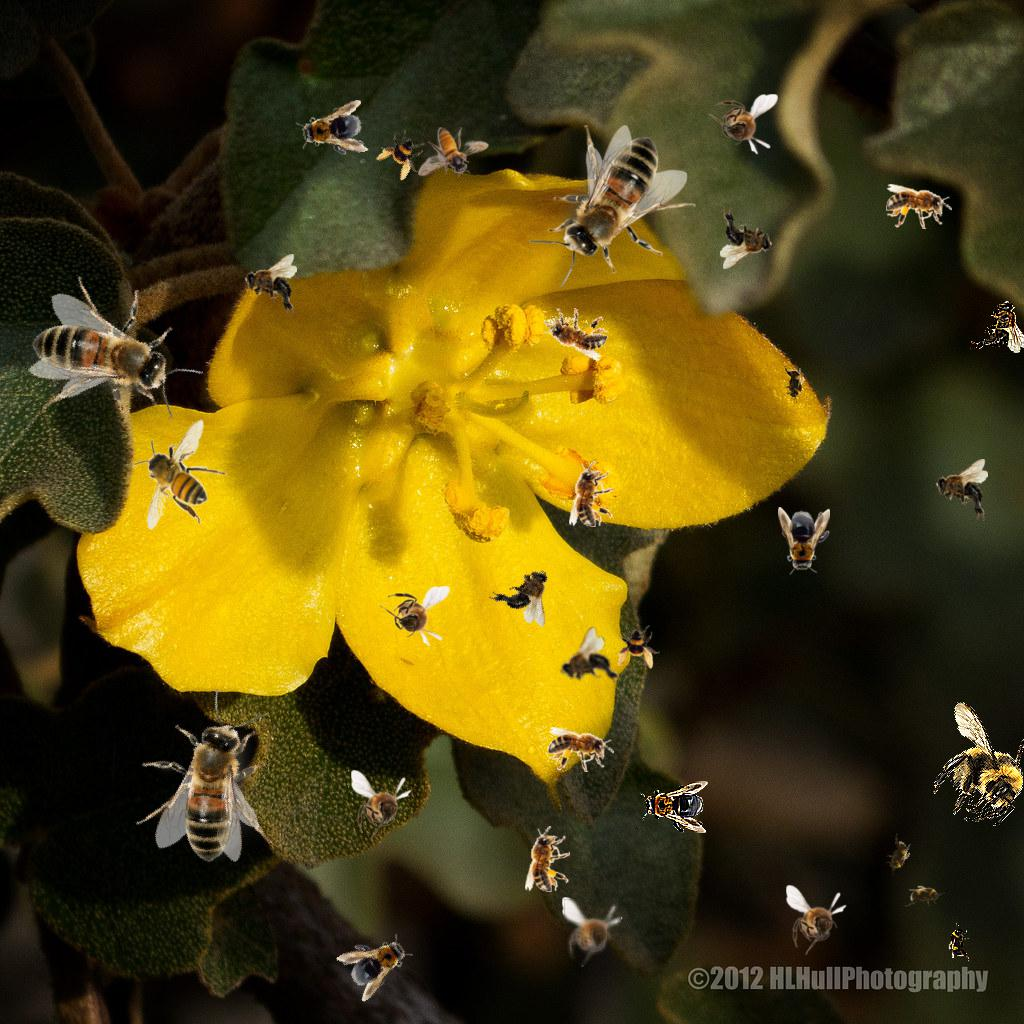Bee: (97, 673, 322, 895), (3, 247, 216, 461), (529, 125, 696, 287), (899, 685, 1024, 842), (133, 419, 227, 530), (334, 921, 420, 1003), (549, 625, 626, 705), (486, 554, 567, 630), (294, 99, 370, 163), (537, 301, 613, 362), (786, 885, 847, 955), (708, 94, 778, 155), (351, 770, 412, 840), (380, 586, 450, 647), (562, 897, 623, 967), (372, 124, 434, 186), (418, 127, 489, 177), (640, 781, 708, 833), (778, 507, 830, 575), (935, 459, 988, 521), (244, 254, 297, 316), (720, 207, 773, 269), (569, 461, 614, 527), (525, 826, 570, 892), (548, 727, 614, 772), (886, 184, 952, 229), (970, 300, 1024, 353), (616, 625, 660, 669), (879, 833, 917, 879), (783, 364, 805, 404), (905, 885, 945, 907), (948, 922, 970, 962)
